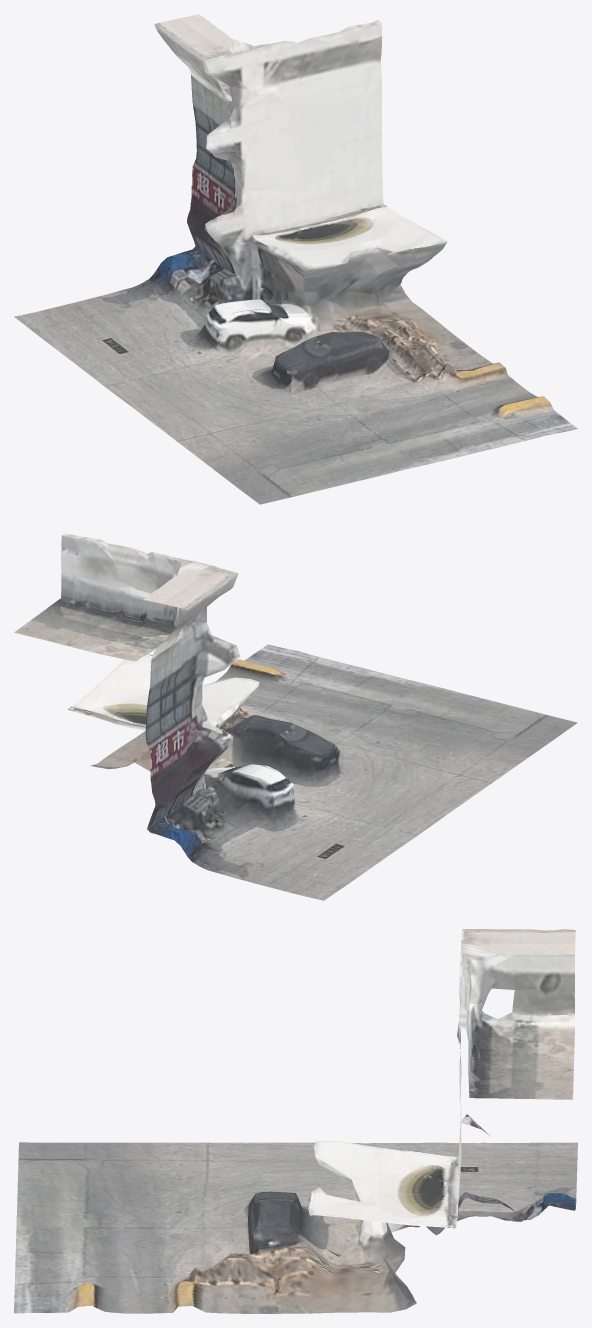
The model's file is Tile_+004_+007_L21_0uuuu300.glb.
3 views of the same model, one above another, from view 1: azimuth 30°, elevation 25°; view 2: azimuth 150°, elevation 25°; view 3: azimuth 270°, elevation 25° (orthographic). The views are drawn at different scales.
Visible parts, largest first — view 1: rtc; view 2: rtc; view 3: rtc.
Part boxes in pixels (left/top/right/bottom): rtc: left=14, top=14, right=577, bottom=504; rtc: left=14, top=533, right=577, bottom=900; rtc: left=14, top=929, right=577, bottom=1313.
Size of the model in its own units: 14.97 by 11.71 by 20.49.
1 material, 1 textured.
